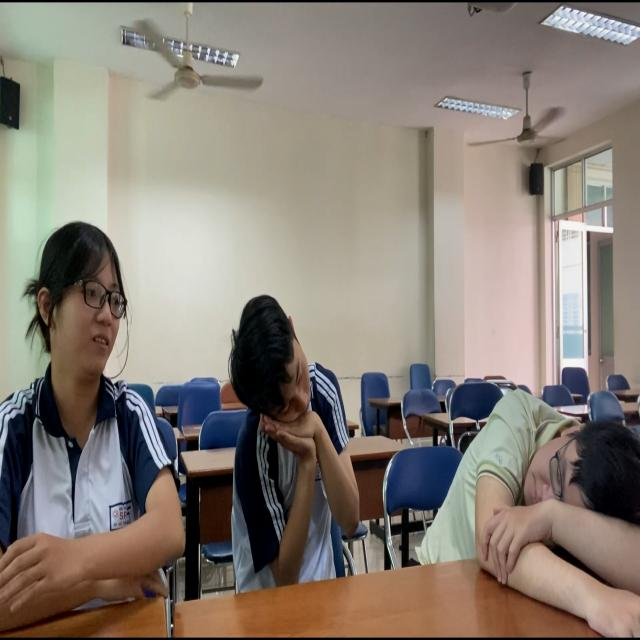sleep: (414, 365, 640, 618)
